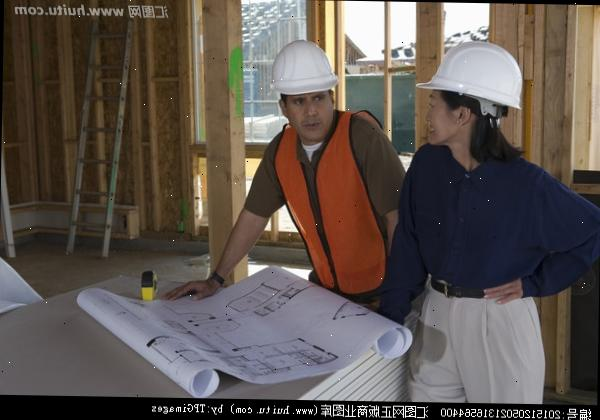helmet: (415, 40, 530, 114), (263, 40, 337, 100)
no_wear: (398, 157, 592, 291)
wear: (271, 140, 388, 286)
